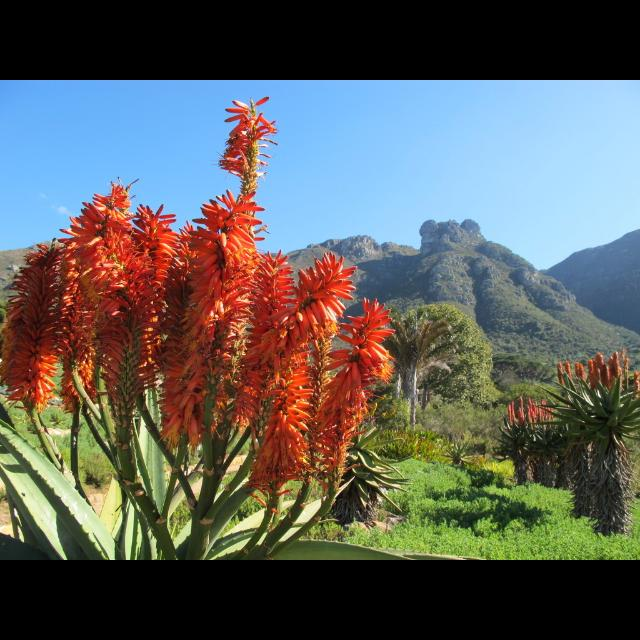Flower: (0, 172, 386, 514), (212, 96, 276, 182), (503, 386, 557, 444), (552, 357, 638, 391)
